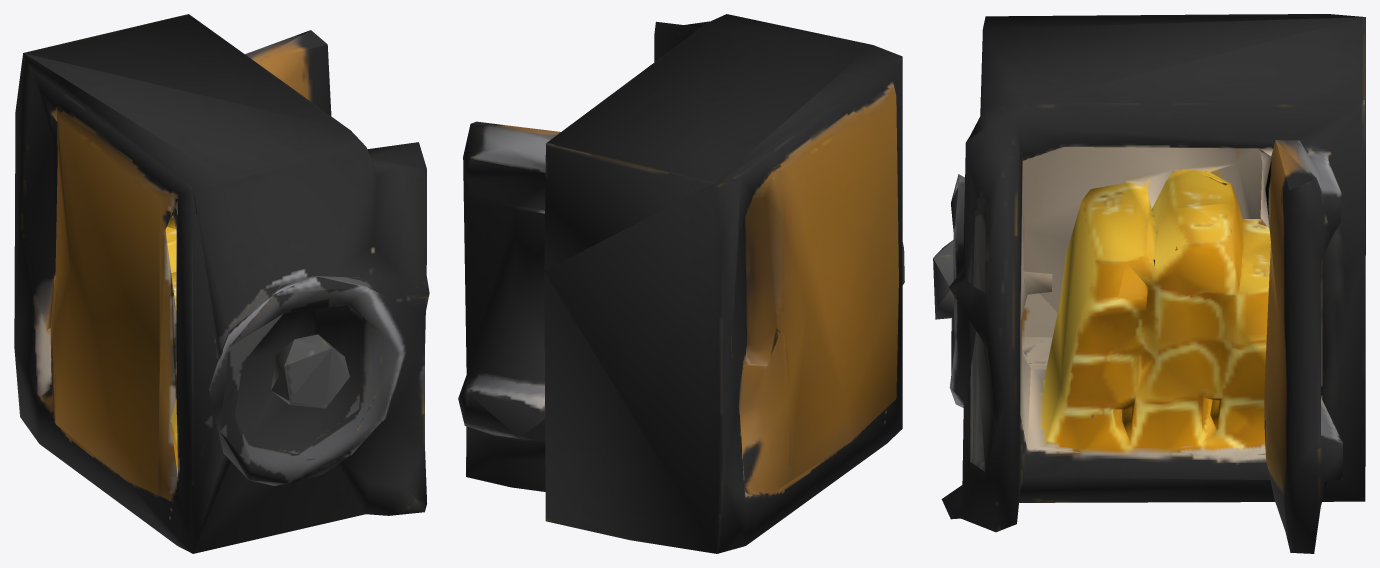
The model's file is vault-open.glb.
The picture shows the model from 3 angles, left to right: view 1: azimuth 30°, elevation 25°; view 2: azimuth 150°, elevation 25°; view 3: azimuth 270°, elevation 25°; orthographic projection. The views are drawn at different scales.
Parts seen in each view (by area): view 1: geometry_0.001; view 2: geometry_0.001; view 3: geometry_0.001.
Part boxes in pixels (<box>): geometry_0.001: <box>14,14,429,553</box>; geometry_0.001: <box>458,14,904,553</box>; geometry_0.001: <box>933,14,1365,553</box>.
Size of the model in its own units: 0.8327 by 0.9972 by 0.98.
1 material, 1 textured.
